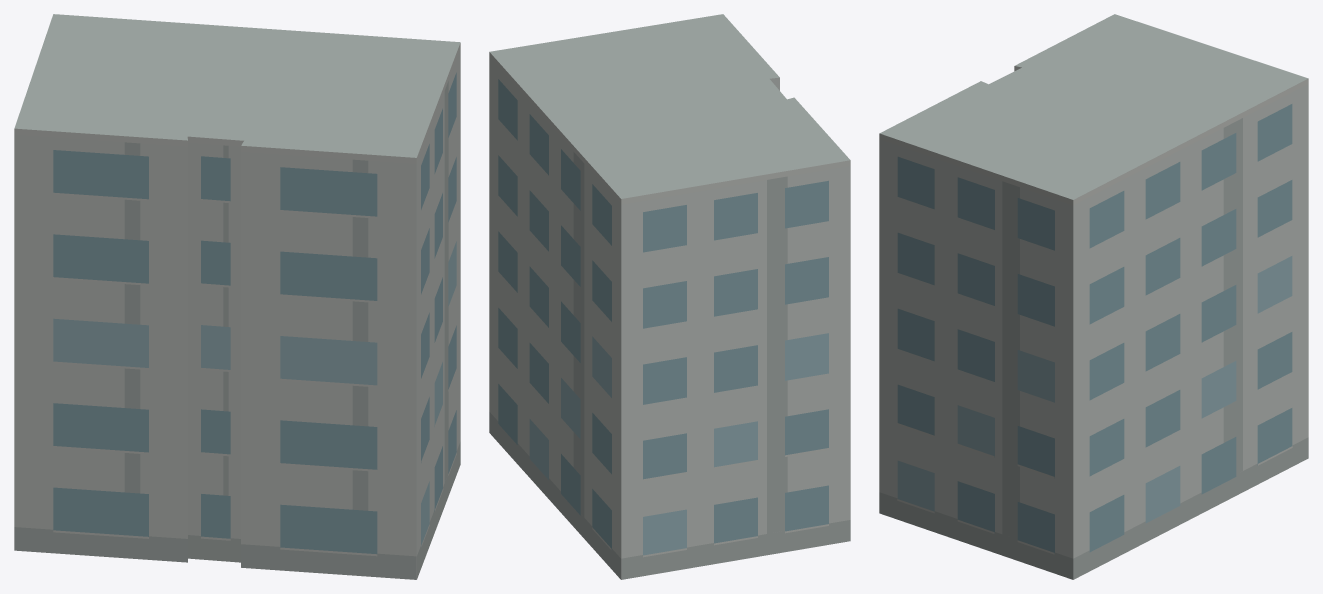
File: survey-upis-33045438.glb
3 views of the same model, side by side, from view 1: azimuth 30°, elevation 25°; view 2: azimuth 150°, elevation 25°; view 3: azimuth 270°, elevation 25° (orthographic). The views are drawn at different scales.
Visible parts, largest first — view 1: survey-upis-33045438.tmp; view 2: survey-upis-33045438.tmp; view 3: survey-upis-33045438.tmp.
Part boxes in pixels (x1=…): survey-upis-33045438.tmp: x1=14, y1=14, x2=460, y2=579; survey-upis-33045438.tmp: x1=489, y1=14, x2=850, y2=579; survey-upis-33045438.tmp: x1=879, y1=14, x2=1308, y2=579.
Bounding box in the file's own units: 17.54 × 16.7 × 17.1.
